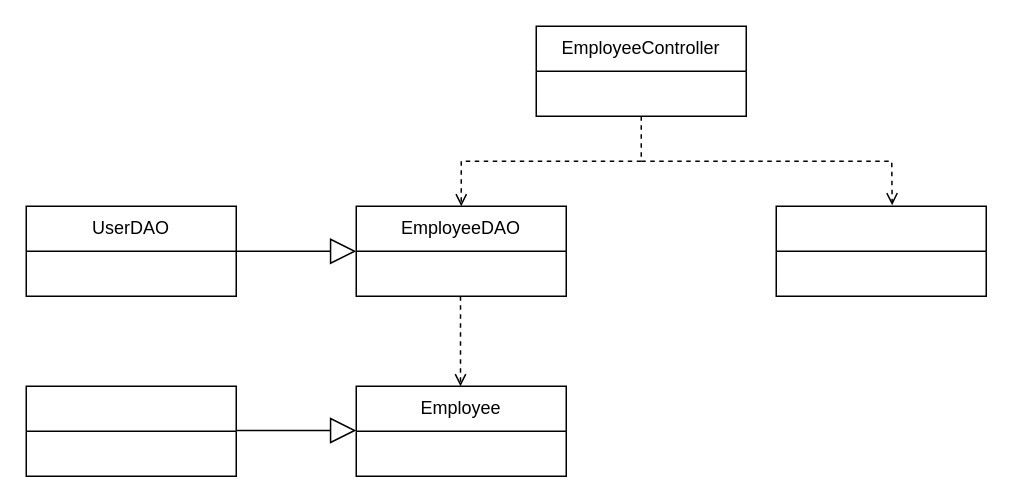
Image size: 1013x503. Some labels were removed from this diagram. Here are the shapes that lost their labels. From the top down, the box of each, then its label:
(775, 205, 986, 296): Generator
(25, 385, 236, 476): User
